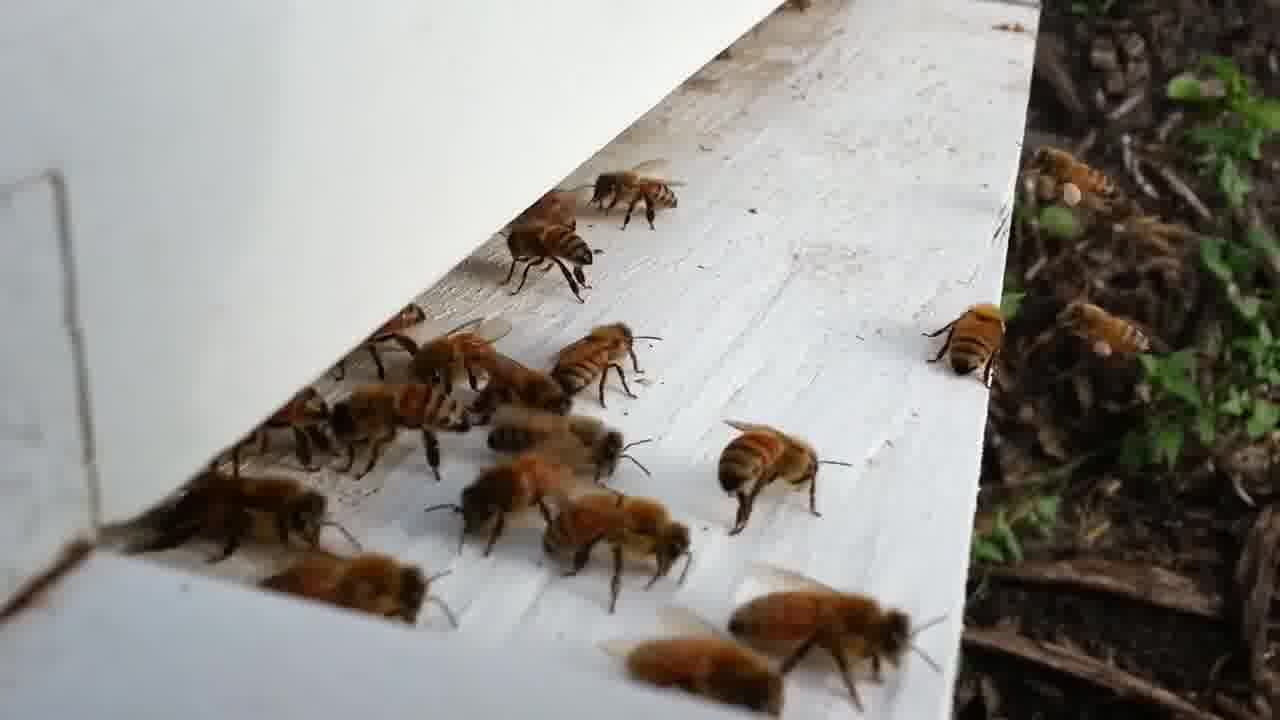pollen: (1031, 145, 1121, 215), (1062, 299, 1150, 361)
